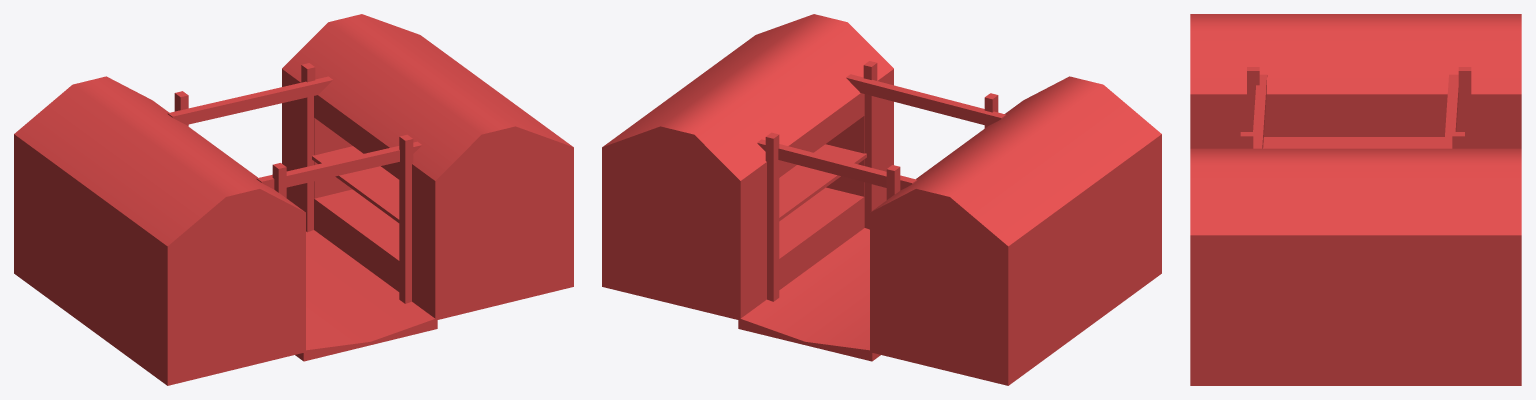
The model's file is Ground_Bed_Double_Wood_COL.fbx.
The picture shows the model from 3 angles, left to right: view 1: azimuth 30°, elevation 25°; view 2: azimuth 150°, elevation 25°; view 3: azimuth 270°, elevation 25°; orthographic projection. The views are drawn at different scales.
Parts seen in each view (by area): view 1: Ground_Bed_Double_Wood_COL; view 2: Ground_Bed_Double_Wood_COL; view 3: Ground_Bed_Double_Wood_COL.
Part boxes in pixels (bbox=[...]): Ground_Bed_Double_Wood_COL: bbox=[14, 14, 573, 385]; Ground_Bed_Double_Wood_COL: bbox=[602, 14, 1161, 385]; Ground_Bed_Double_Wood_COL: bbox=[1190, 14, 1521, 385].
Size of the model in its own units: 611 by 264 by 400.
